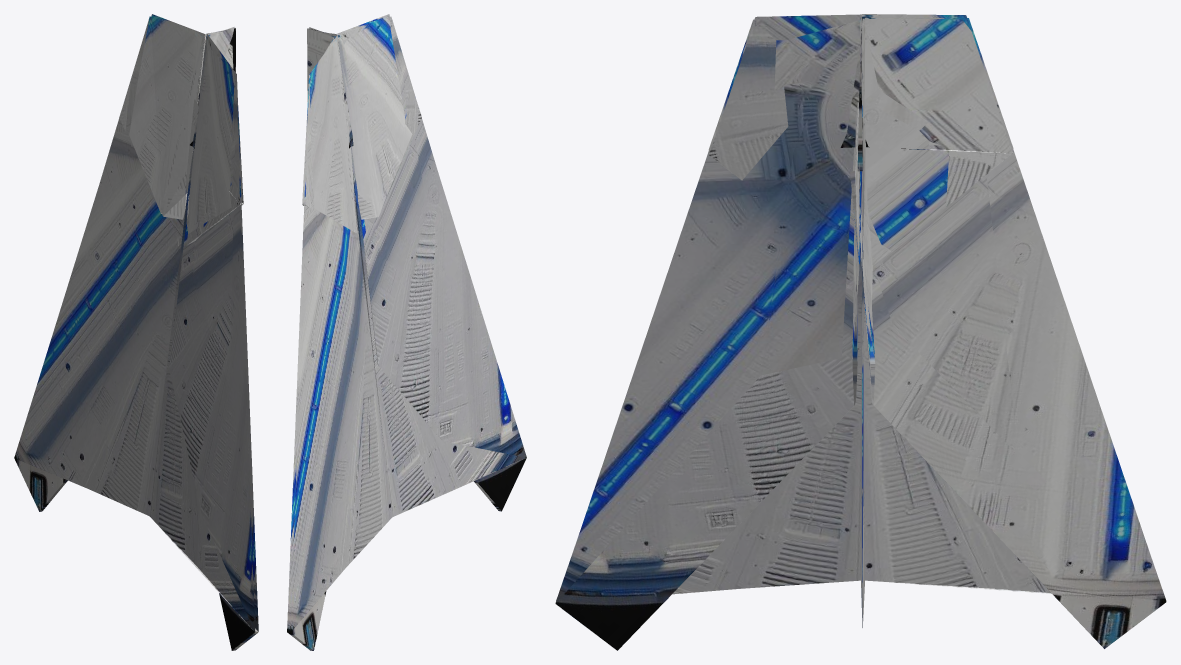
The picture shows the model from 3 angles, left to right: view 1: azimuth 30°, elevation 25°; view 2: azimuth 150°, elevation 25°; view 3: azimuth 270°, elevation 25°; orthographic projection. The views are drawn at different scales.
Parts seen in each view (by area): view 1: Origami_Model_17.001; view 2: Origami_Model_17.001; view 3: Origami_Model_17.001.
Boxes of the visible parts, x1,y1,x2,y2 form: Origami_Model_17.001: [14, 14, 258, 650]; Origami_Model_17.001: [287, 14, 526, 650]; Origami_Model_17.001: [555, 14, 1166, 650].
Bounding box in the file's own units: 0.0298 × 0.1476 × 0.1205.
Materials: 1 (1 with a texture image).
